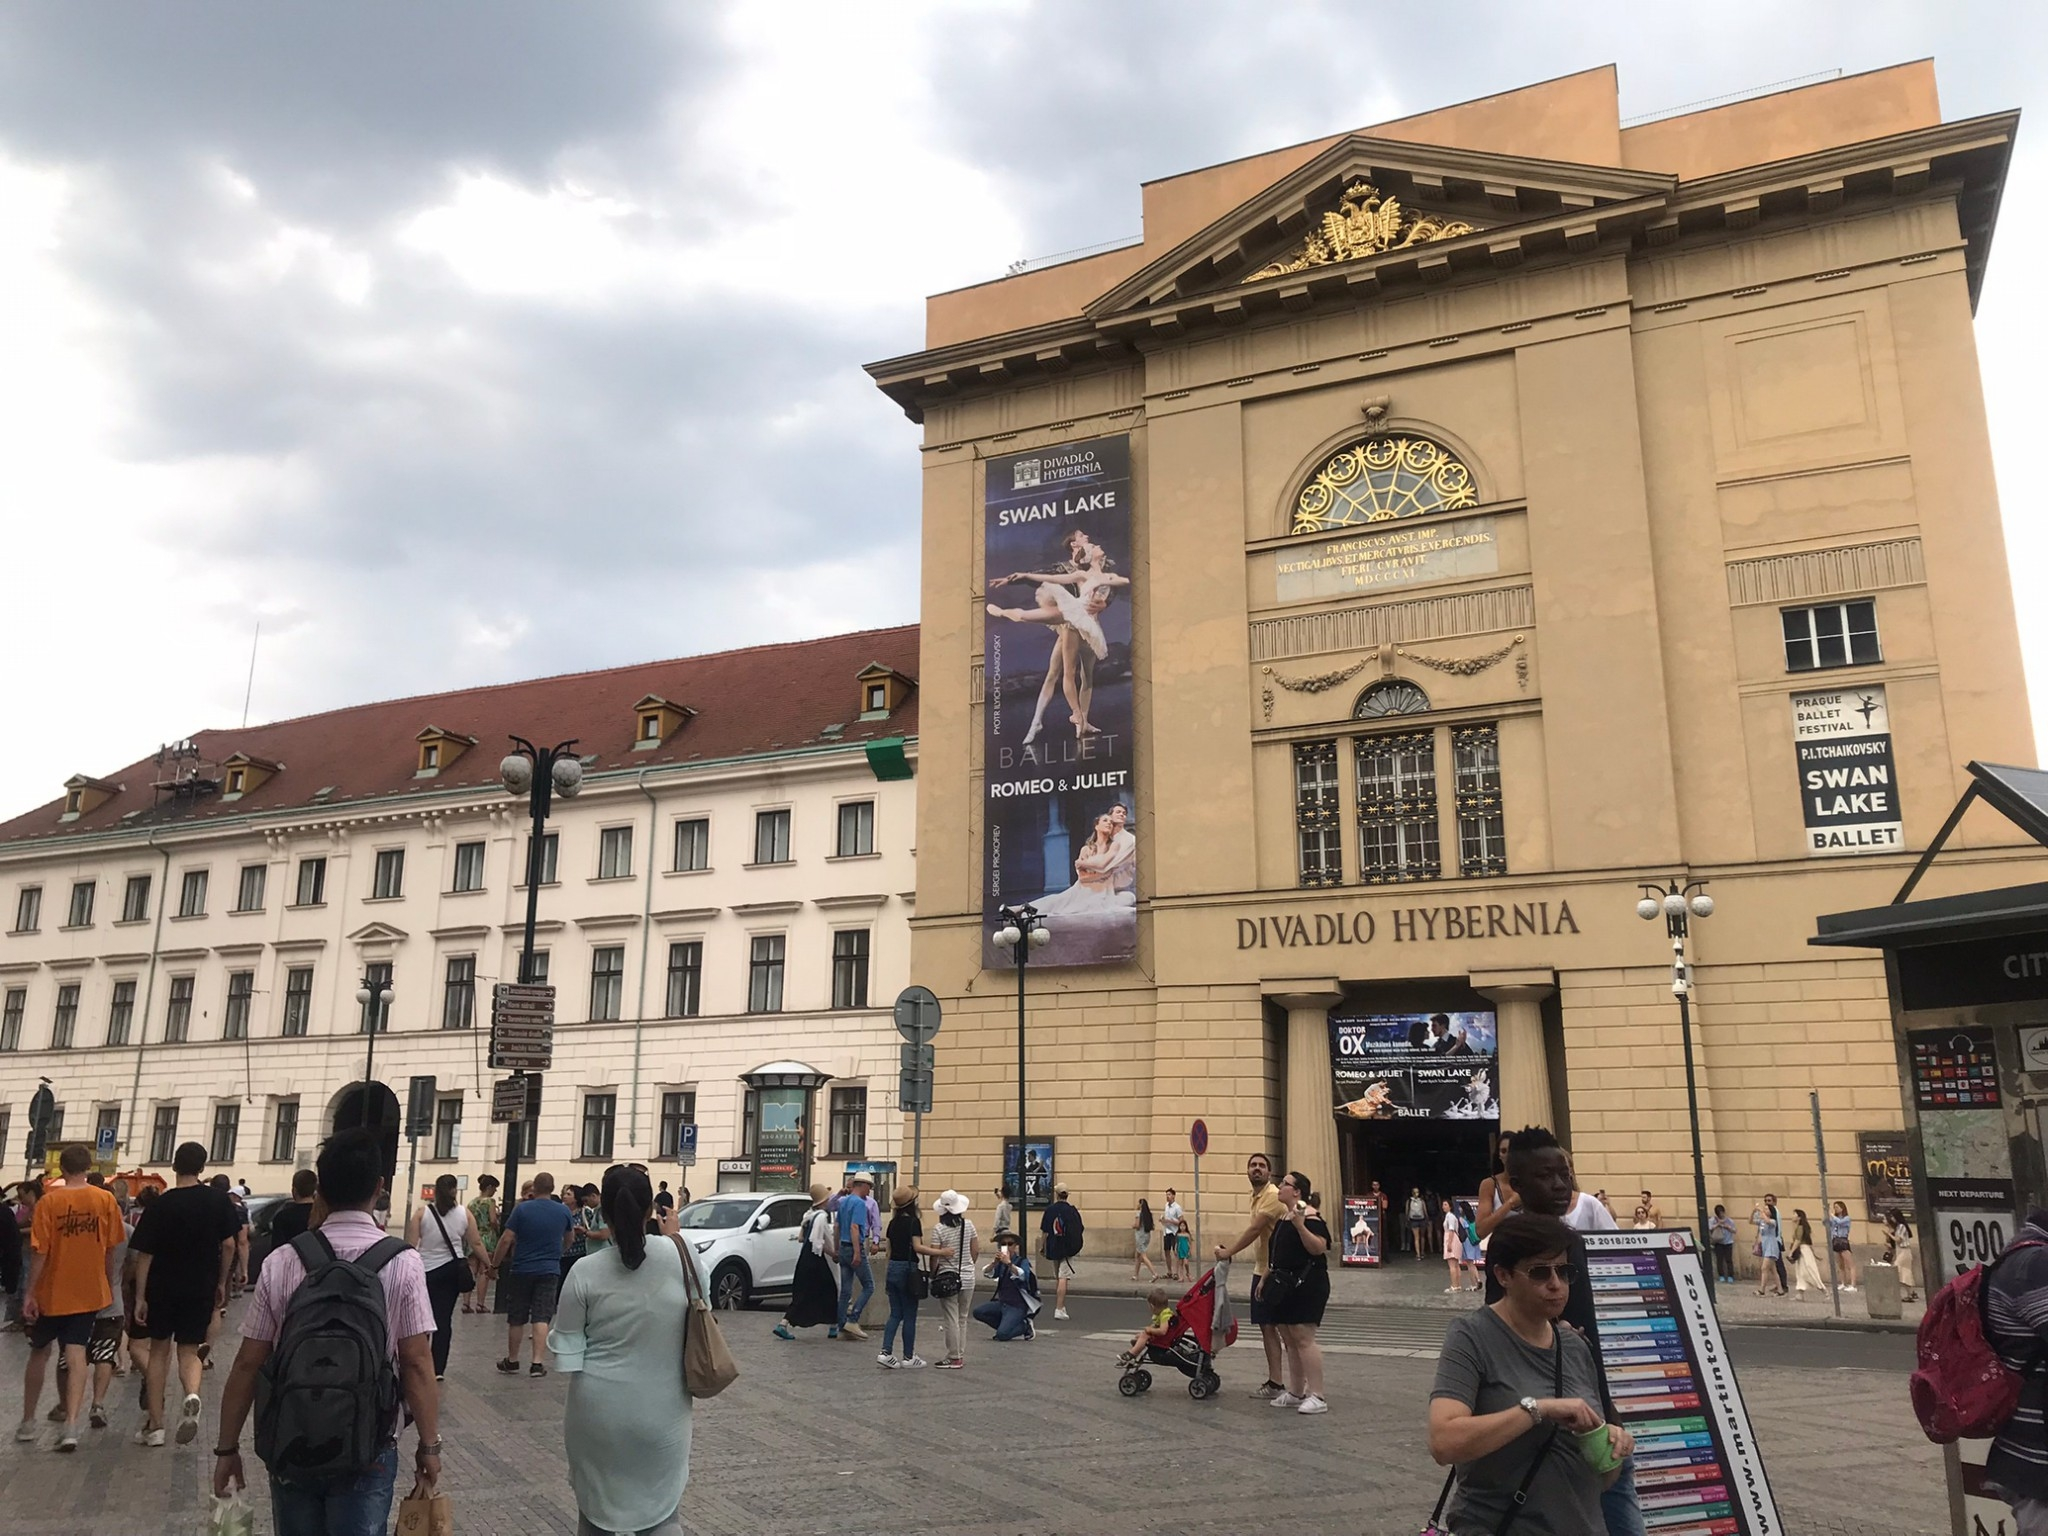people: (249, 1134, 407, 1536), (1446, 1213, 1637, 1536), (563, 1160, 690, 1536), (1263, 1172, 1352, 1428), (37, 1149, 99, 1455), (152, 1134, 210, 1446), (499, 1166, 566, 1390), (407, 1175, 478, 1366), (1246, 1149, 1290, 1390), (831, 1175, 878, 1346), (934, 1175, 972, 1375), (799, 1178, 840, 1340), (990, 1228, 1046, 1337), (1043, 1178, 1084, 1331), (1822, 1199, 1875, 1310), (1493, 1149, 1581, 1213), (890, 1193, 919, 1384), (1349, 1169, 1404, 1266), (1787, 1202, 1831, 1302), (1152, 1187, 1202, 1275), (1749, 1190, 1787, 1293), (1390, 1178, 1431, 1266), (1122, 1193, 1169, 1266), (1702, 1202, 1749, 1269), (1596, 1184, 1628, 1234), (1640, 1184, 1669, 1231)
